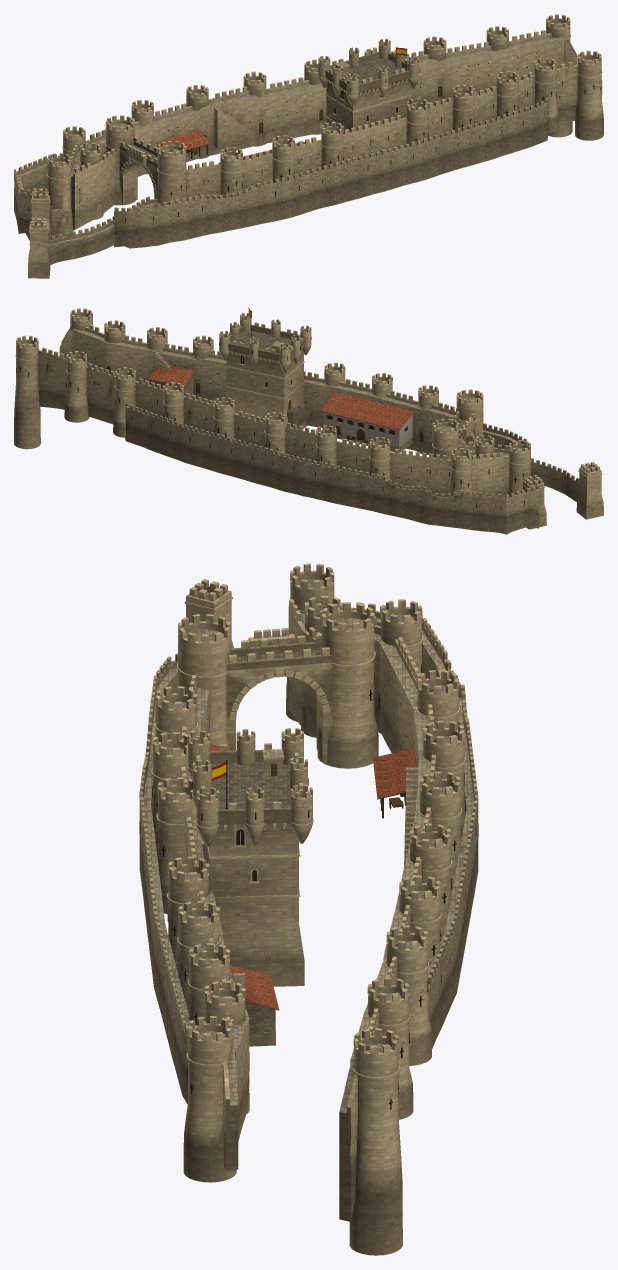
The model's file is castle.glb.
3 renders of one model, top to bottom at view 1: azimuth 30°, elevation 25°; view 2: azimuth 150°, elevation 25°; view 3: azimuth 270°, elevation 25°, orthographic. The views are drawn at different scales.
Visible parts, largest first — view 1: castle; view 2: castle; view 3: castle.
Boxes of the visible parts, box(x1,y1,x2,y2) form: castle: box(14, 14, 603, 278); castle: box(14, 308, 603, 534); castle: box(139, 563, 478, 1255).
Bounding box in the file's own units: 175 × 46.36 × 47.3.
Materials: 8 (8 with a texture image).
